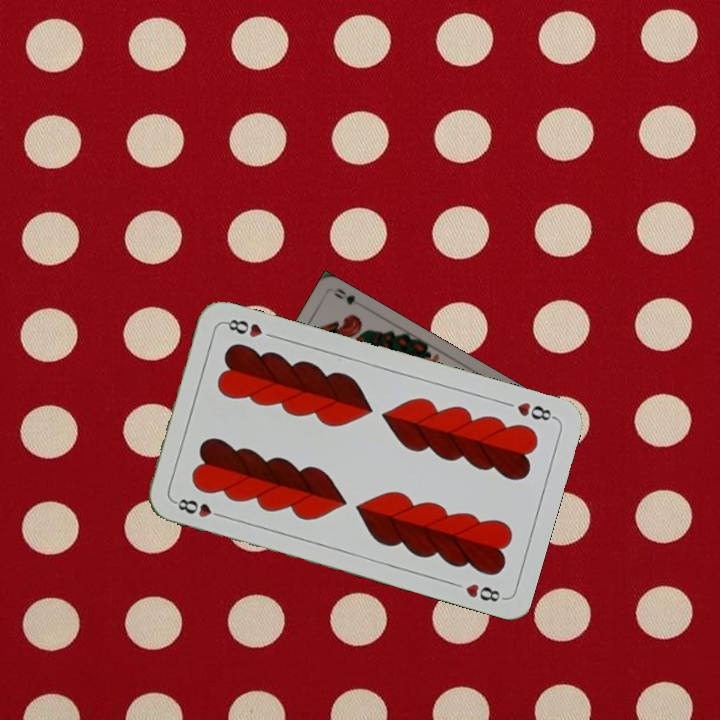H8: (170, 494, 228, 521), (513, 398, 558, 424)
